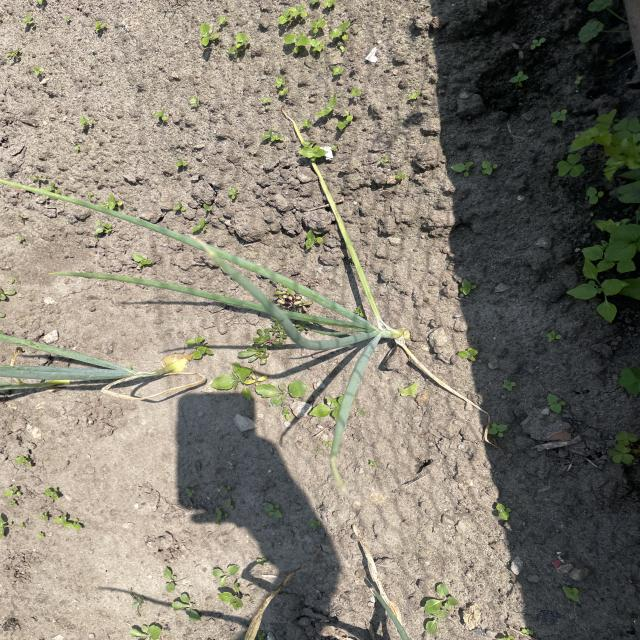Onion: (74, 203, 522, 432), (7, 336, 205, 421)
weed: (545, 106, 640, 320), (127, 558, 248, 640), (184, 5, 363, 55), (0, 454, 95, 536), (596, 422, 640, 470)
